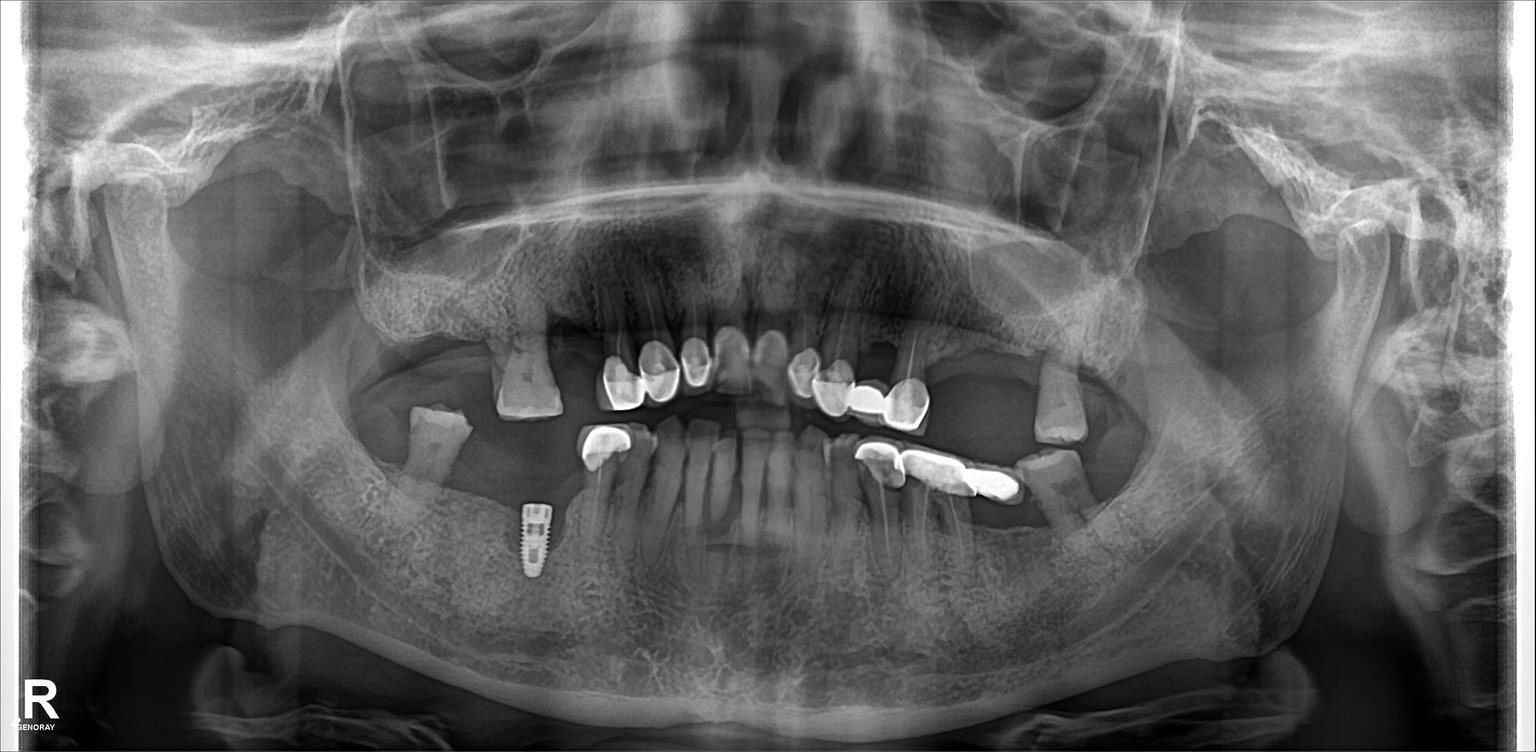Endodontically Treated Tooth: (579, 424, 624, 562), (857, 434, 903, 569), (933, 454, 973, 572), (894, 320, 931, 435), (819, 322, 852, 429), (633, 315, 673, 402), (592, 337, 636, 408), (909, 449, 933, 575), (683, 307, 714, 389), (795, 322, 822, 410)
Missing Tooth: (968, 339, 1019, 439), (1088, 449, 1135, 530), (348, 415, 395, 489), (453, 463, 490, 556), (1080, 344, 1111, 447), (451, 322, 492, 399), (404, 318, 448, 389), (551, 322, 588, 404), (935, 341, 965, 441), (365, 326, 398, 404), (488, 471, 521, 542)
